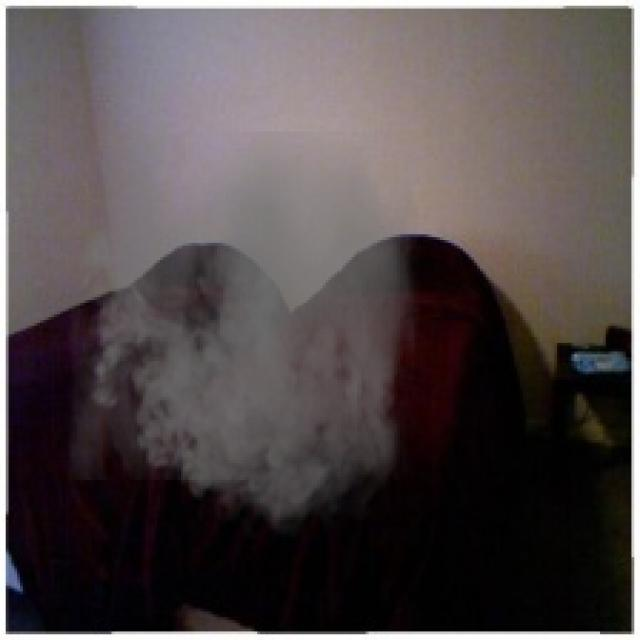Smoke: (68, 132, 420, 548)
